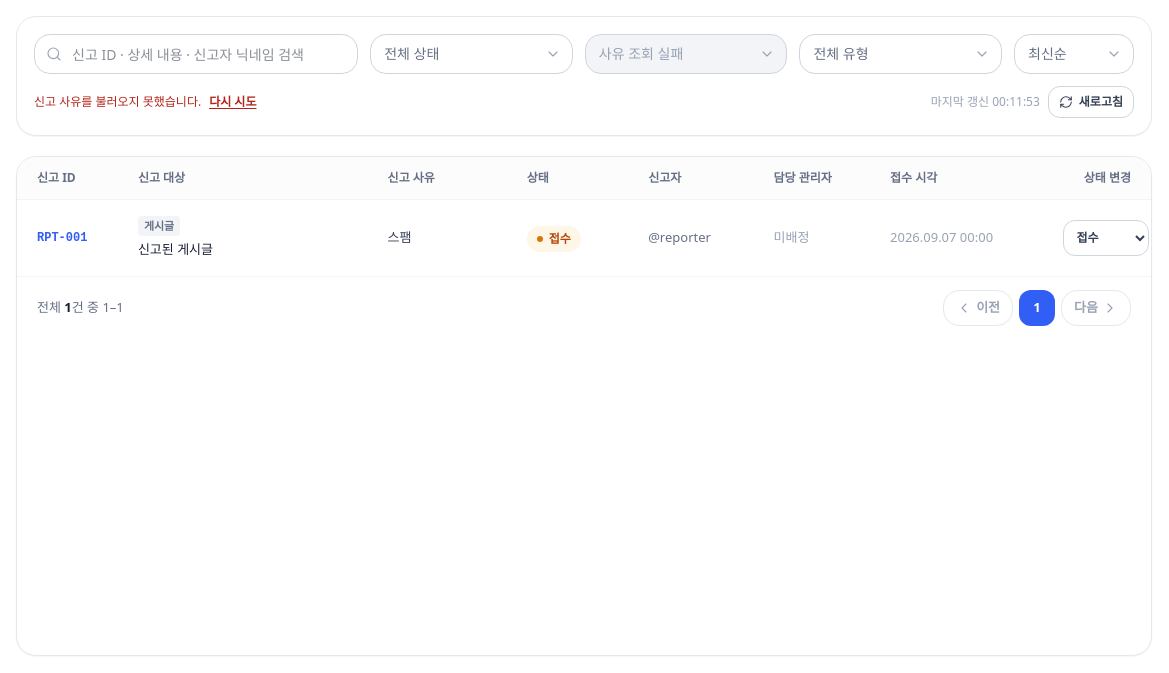
Test: AdminReportsManagement › disables only the reason filter when reason loading fails and supports retry
Expected: the link "RPT-001" is shown, [37,231,87,245]
Expected: the 2nd dropdown named "사유 조회 실패" is disabled, [585,34,787,74]
Click the button "다시 시도" at {"x": 233, "y": 102}, box [209,94,256,110]
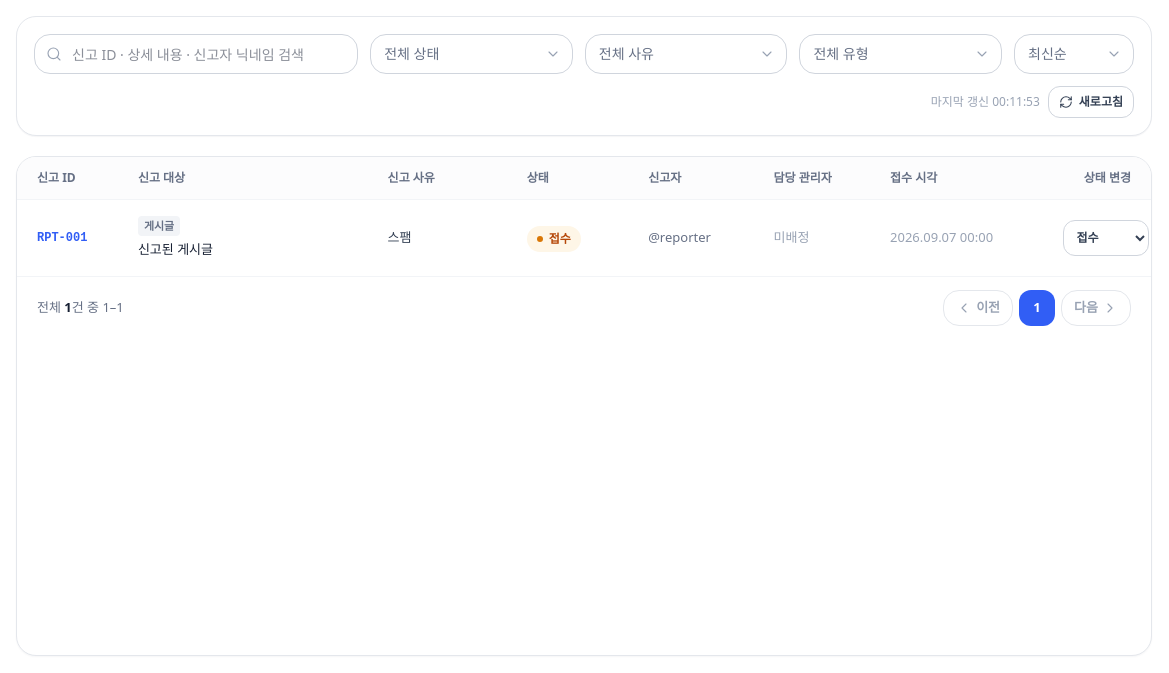
Result: the 2nd dropdown named "전체 사유" is enabled at [585,34,787,74]
